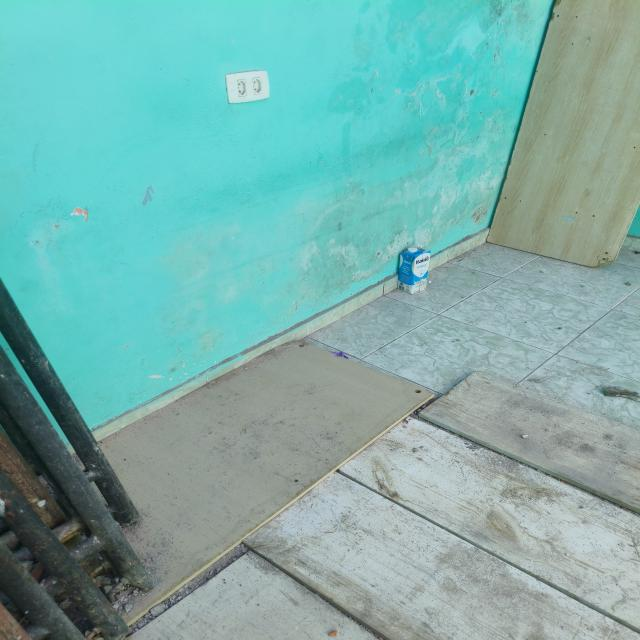Caixa de Leite: (397, 246, 430, 293)
